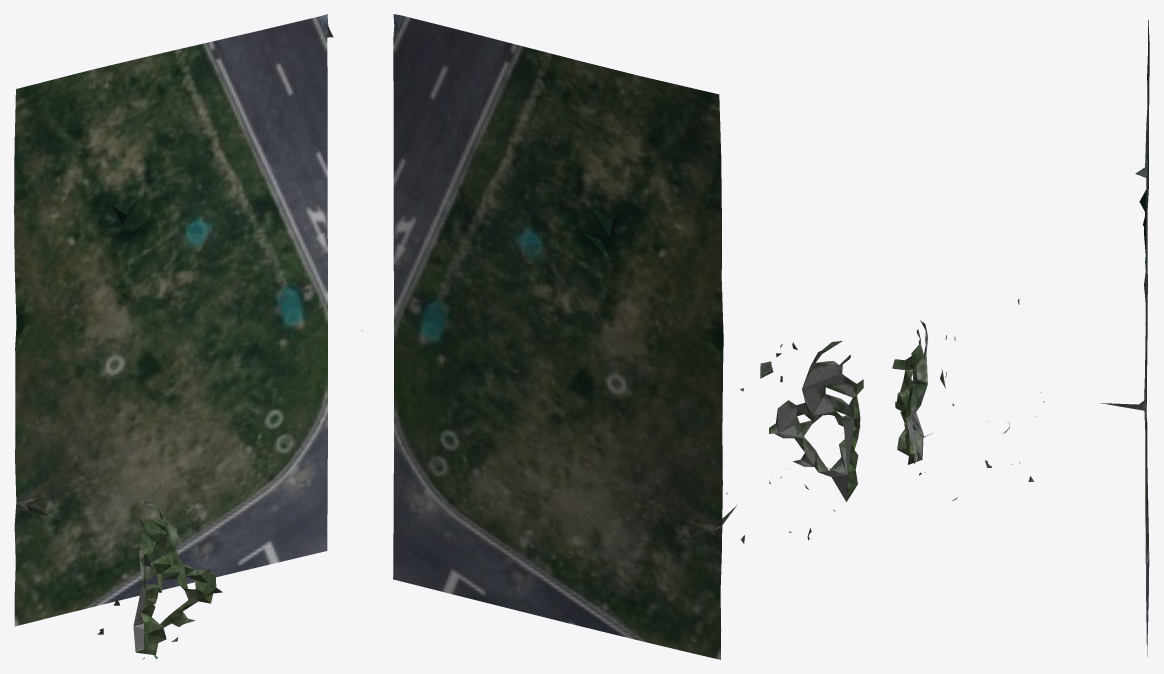
Rendered from Tile_+000_+006_L19_00.obj.
The picture shows the model from 3 angles, left to right: view 1: azimuth 30°, elevation 25°; view 2: azimuth 150°, elevation 25°; view 3: azimuth 270°, elevation 25°; orthographic projection. The views are drawn at different scales.
Bounding box in the file's own units: 18.44 × 30.26 × 14.02.
1 material, 1 textured.
